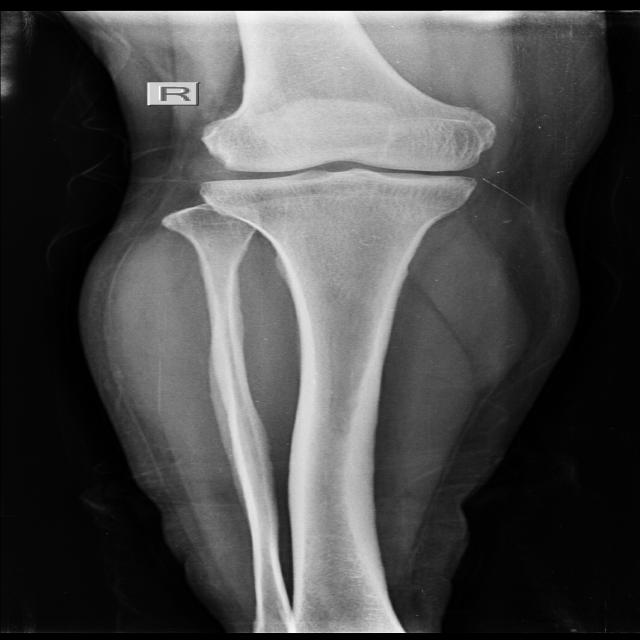normal: (196, 110, 504, 208)
